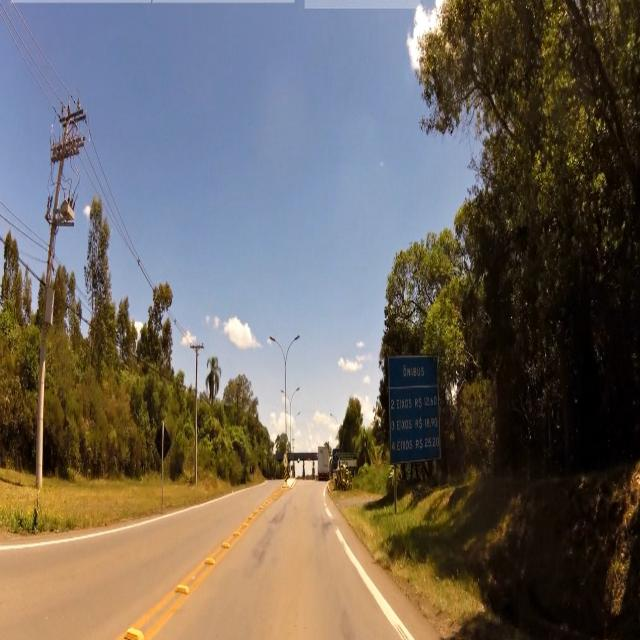LOC-6: (389, 356, 442, 466)
